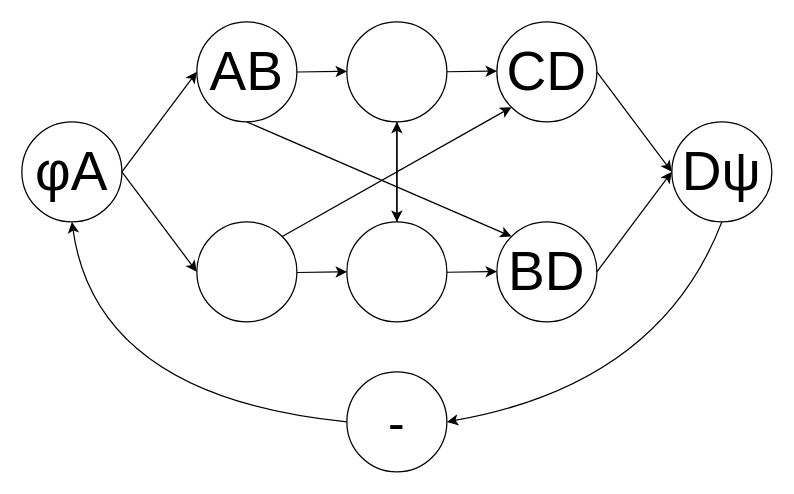
The diagram is 794 pixels wide and 494 high, and some of its shapes have lost their labels. Here are the shapes that lost their labels. From the top down, the centre of each, then its label:
the point at 396,71: BC
the point at 246,271: AC
the point at 396,271: CB
